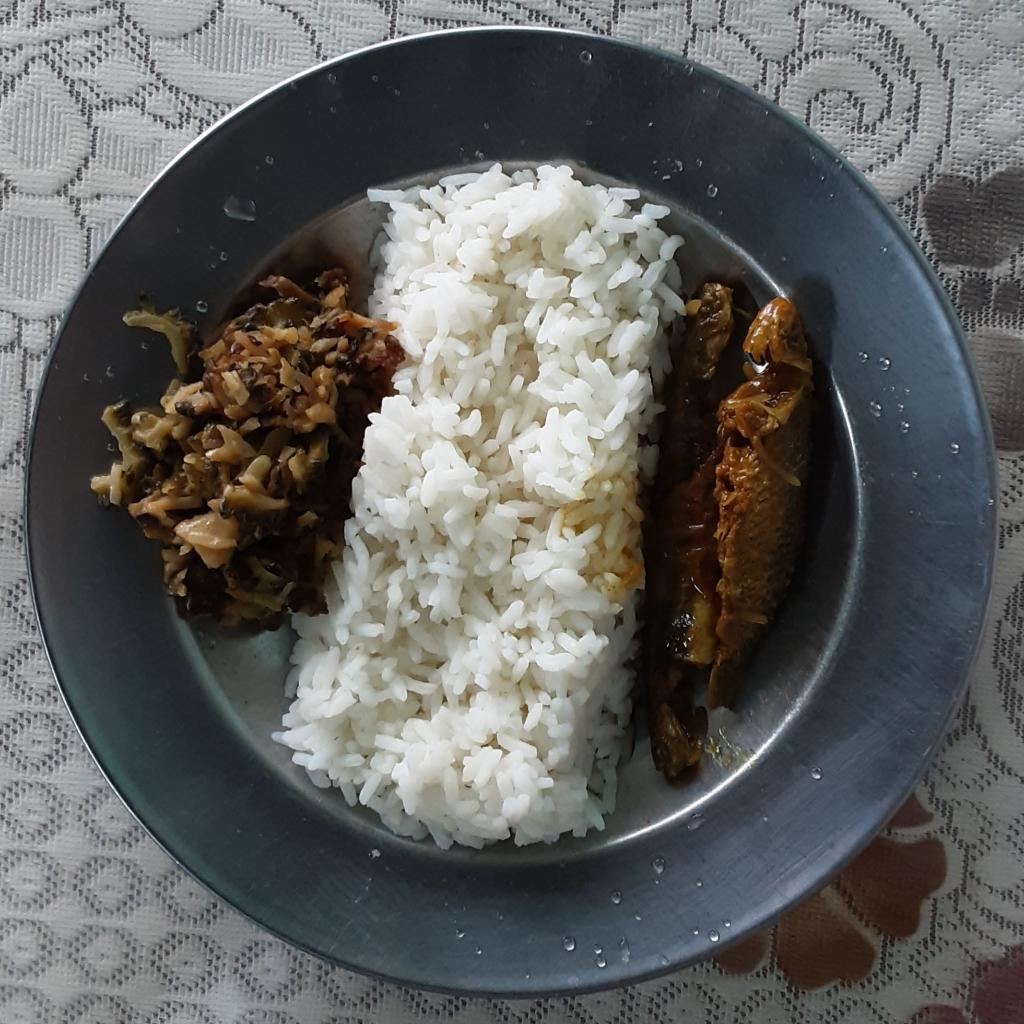fish: (642, 270, 818, 786)
korola-vaji: (74, 260, 394, 630)
rice: (267, 162, 683, 854)
